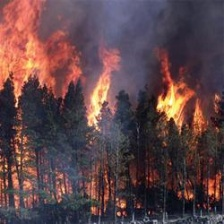fire: (1, 4, 224, 213)
smoke: (169, 4, 218, 64)
